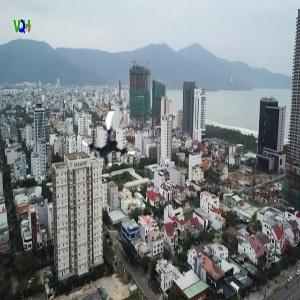drone: (81, 110, 143, 172)
